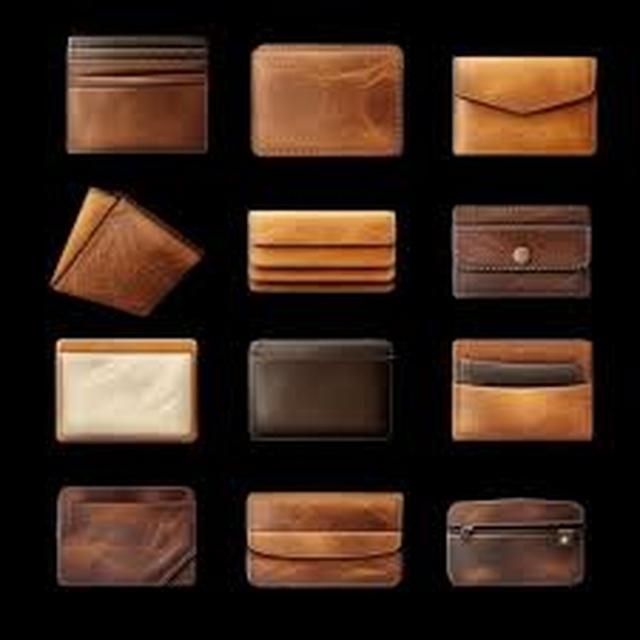wallet: (39, 39, 238, 171), (45, 186, 212, 328), (37, 330, 212, 465), (432, 42, 611, 169), (444, 188, 632, 308), (242, 36, 410, 170), (440, 332, 624, 444), (445, 490, 612, 608), (230, 200, 426, 300), (236, 490, 415, 599), (32, 488, 214, 587), (243, 348, 410, 442)
